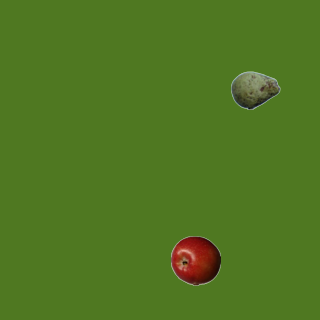Apple Braeburn: (170, 235, 220, 285)
Pear Stone: (230, 65, 280, 115)
